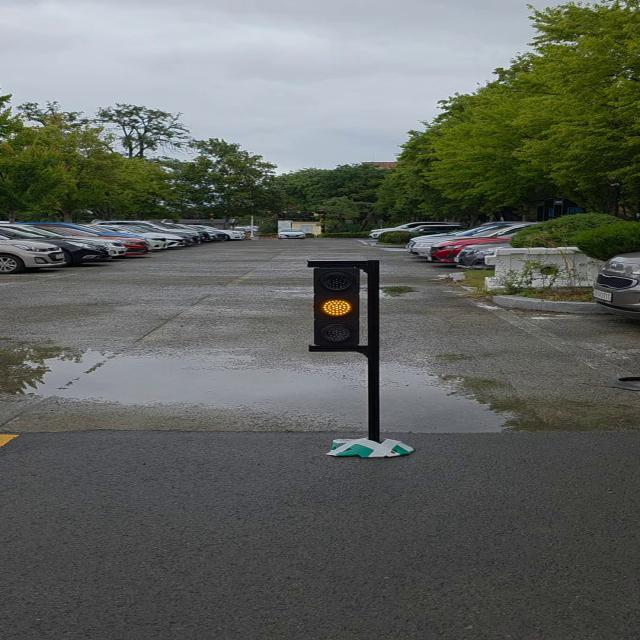yellow: (314, 263, 365, 351)
